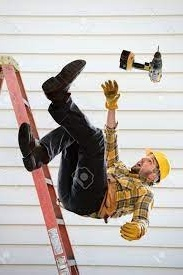fall: (13, 55, 170, 245)
